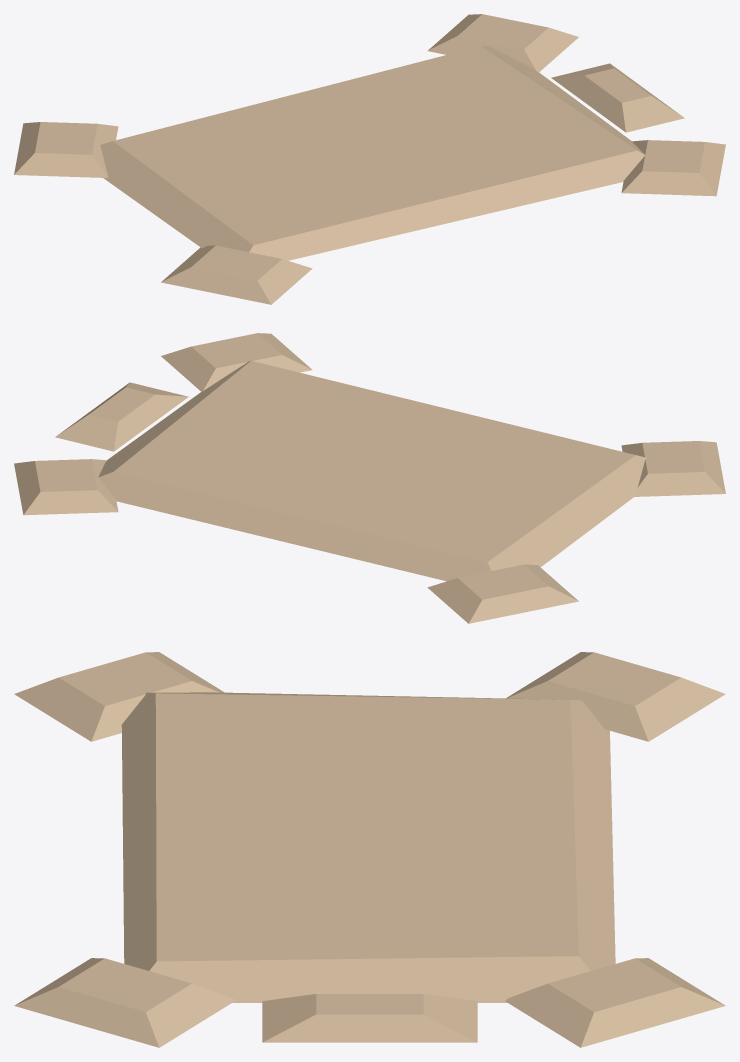
Rendered from item_014_fur_cloak_s.glb.
3 views of the same model, one above another, from view 1: azimuth 30°, elevation 25°; view 2: azimuth 150°, elevation 25°; view 3: azimuth 270°, elevation 25° (orthographic). The views are drawn at different scales.
Visible parts, largest first — view 1: item_014_fur_cloak_s; view 2: item_014_fur_cloak_s; view 3: item_014_fur_cloak_s.
Boxes of the visible parts, box(x1,y1,x2,y2) form: item_014_fur_cloak_s: box(14, 14, 725, 304); item_014_fur_cloak_s: box(14, 333, 725, 623); item_014_fur_cloak_s: box(14, 652, 725, 1047).
Size of the model in its own units: 0.9572 by 0.0306 by 0.7276.
